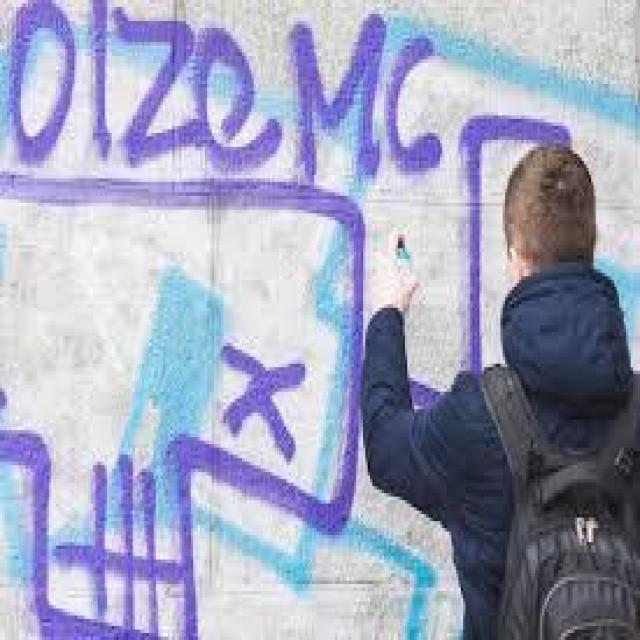nonspitting: (0, 172, 363, 636), (7, 0, 442, 174), (460, 108, 568, 380)
